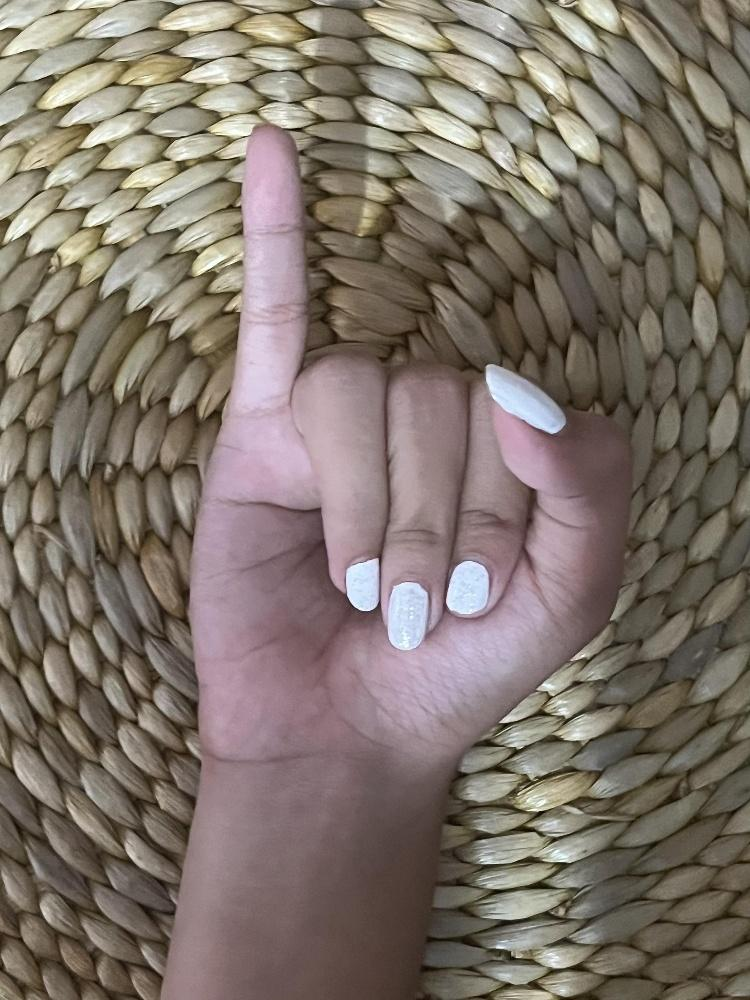i: (191, 120, 636, 758)
